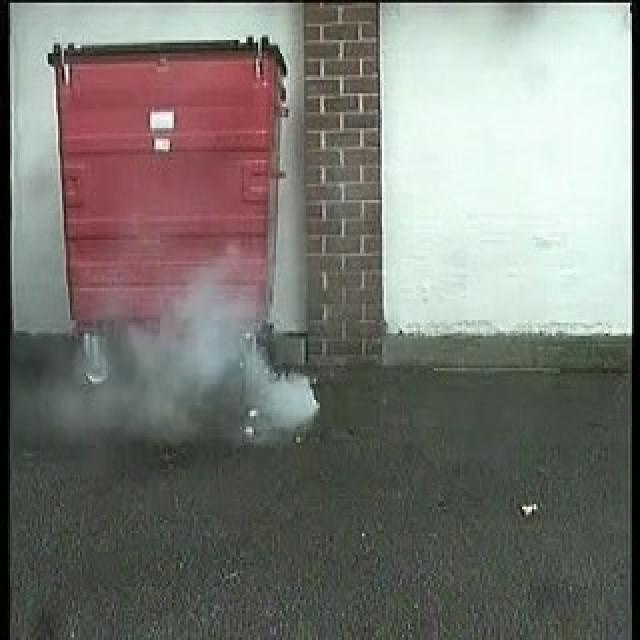Smoke: (56, 266, 319, 432)
